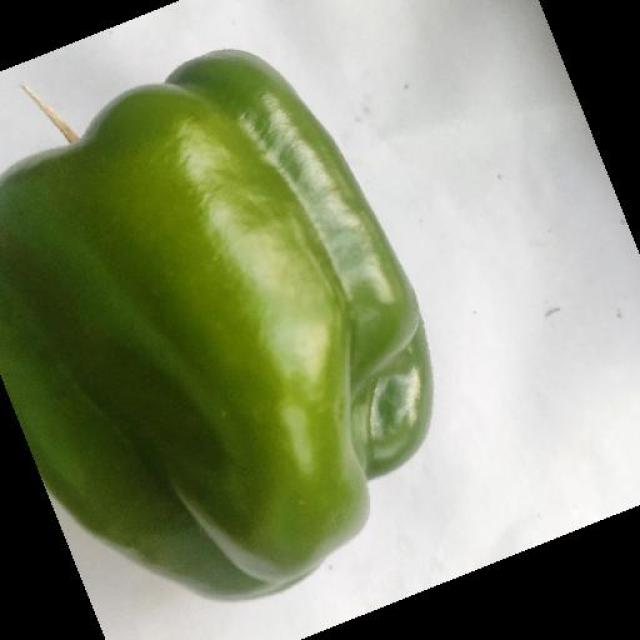Stale_Capsicum: (9, 116, 437, 640)
